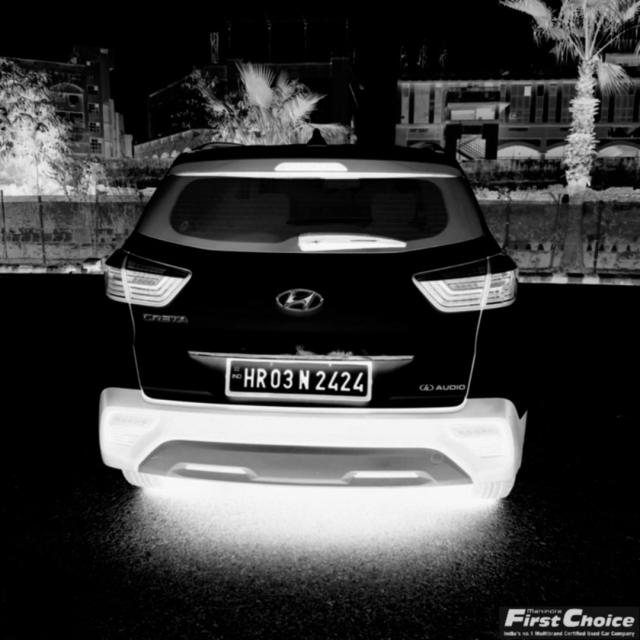0: (270, 367, 282, 391)
2: (314, 368, 326, 392), (340, 370, 352, 393)
3: (283, 368, 293, 390)
4: (352, 371, 366, 395), (328, 369, 340, 393)
H: (244, 364, 255, 390)
IND: (230, 360, 242, 384)
Indian_registered: (225, 359, 372, 403)
N: (296, 367, 312, 393)
R: (255, 366, 267, 391)
